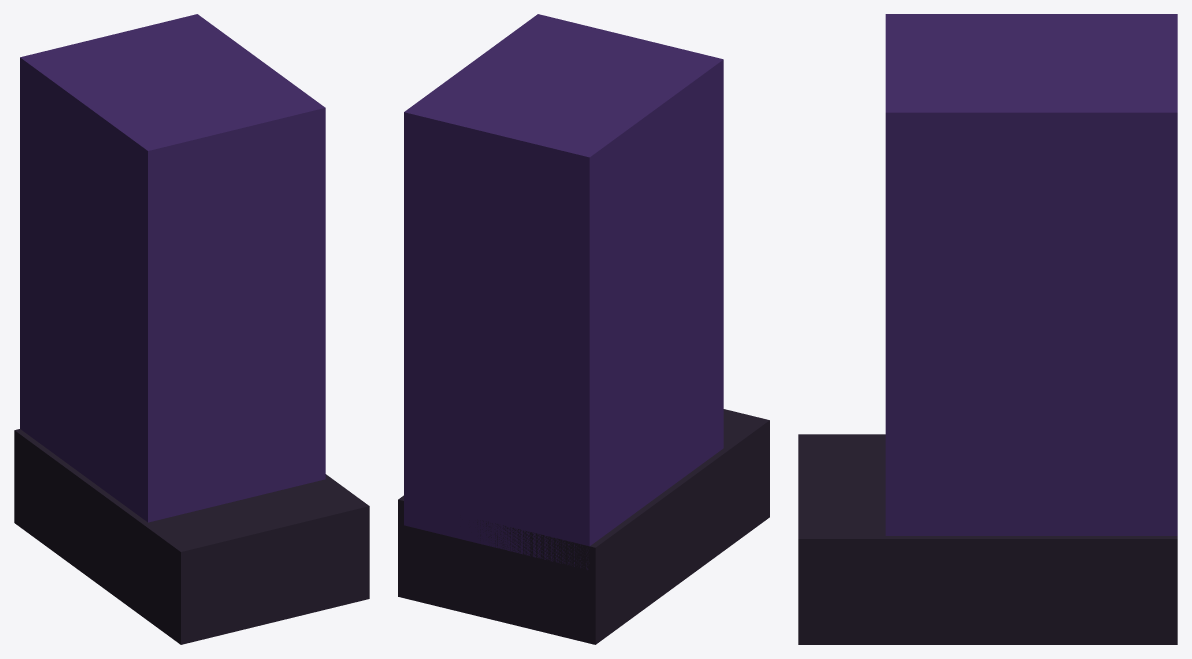
Rendered from player_leg.glb.
3 views of the same model, side by side, from view 1: azimuth 30°, elevation 25°; view 2: azimuth 150°, elevation 25°; view 3: azimuth 270°, elevation 25° (orthographic). The views are drawn at different scales.
Parts seen in each view (by area): view 1: player_leg; view 2: player_leg; view 3: player_leg.
Boxes of the visible parts, bbox=[...] form: player_leg: bbox=[14, 14, 369, 644]; player_leg: bbox=[398, 14, 769, 644]; player_leg: bbox=[798, 14, 1177, 644].
Size of the model in its own units: 0.17 by 0.4 by 0.26.
